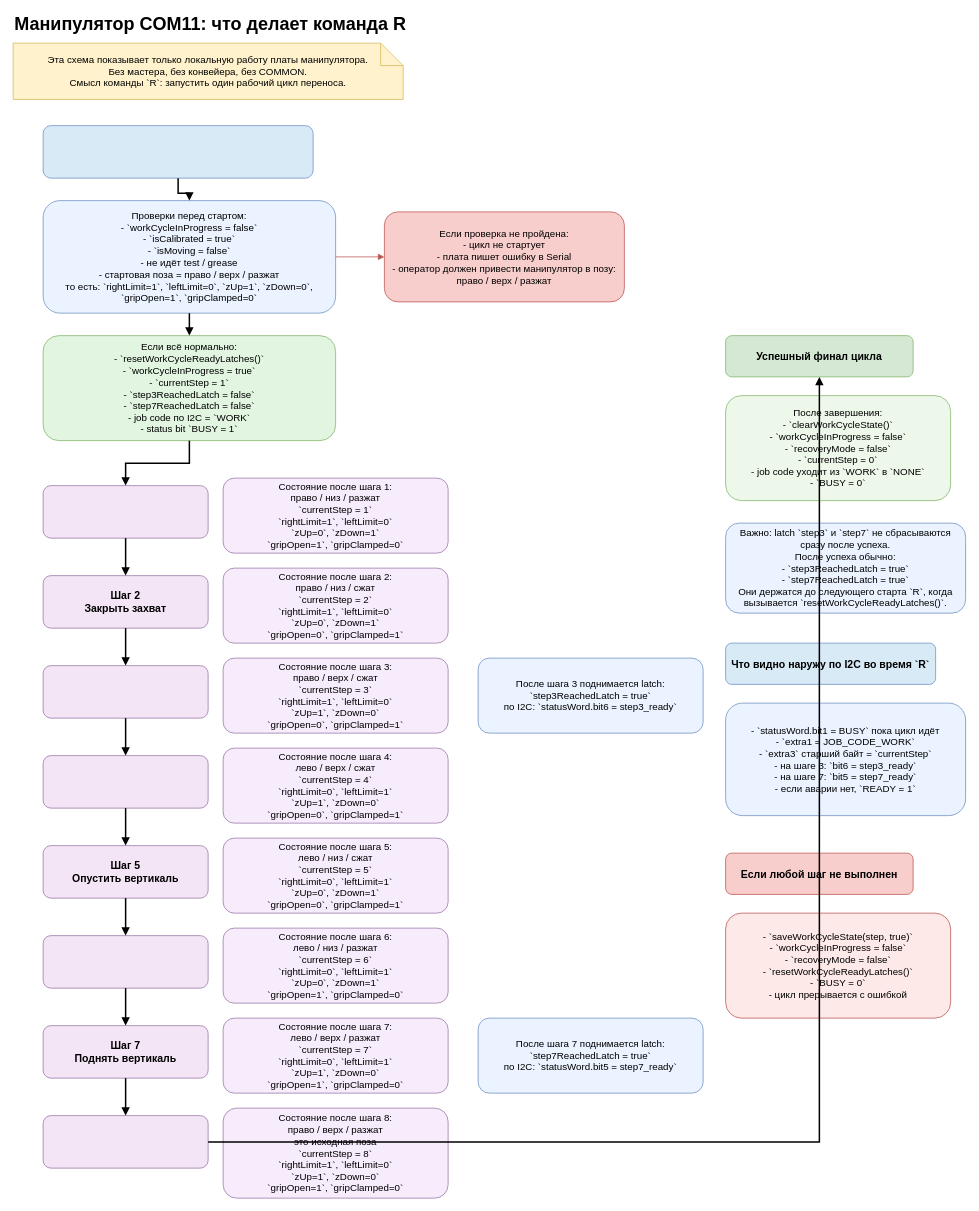
Some shapes in this 979 by 1211 pixel diagram are drawn without their labels. Here are the shapes that lost their labels. From the top down, the box of each, then its label:
(42, 125, 313, 178): Команда `R` приходит в `processCommand()` и вызывает `startWorkCycle(false)`
(42, 485, 208, 538): Шаг 1 Опустить вертикаль
(42, 665, 208, 718): Шаг 3 Поднять вертикаль
(42, 755, 208, 808): Шаг 4 Поехать влево
(42, 935, 208, 988): Шаг 6 Открыть захват
(42, 1115, 208, 1168): Шаг 8 Поехать вправо
